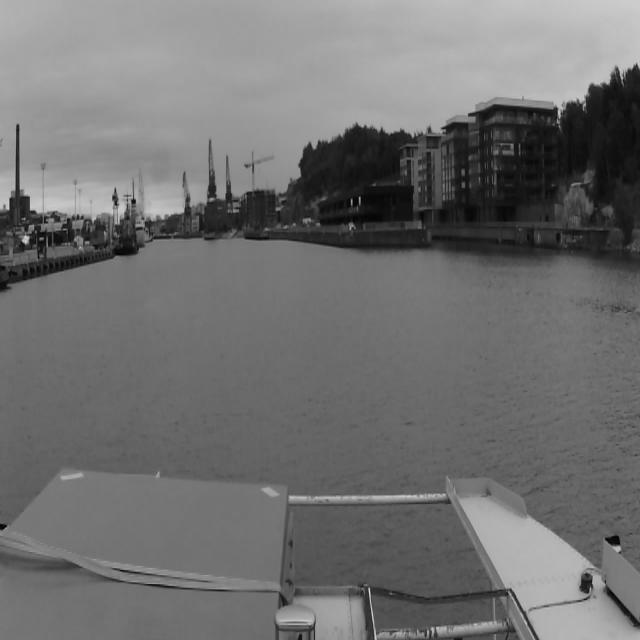ship: (129, 198, 147, 245), (120, 216, 136, 254)
